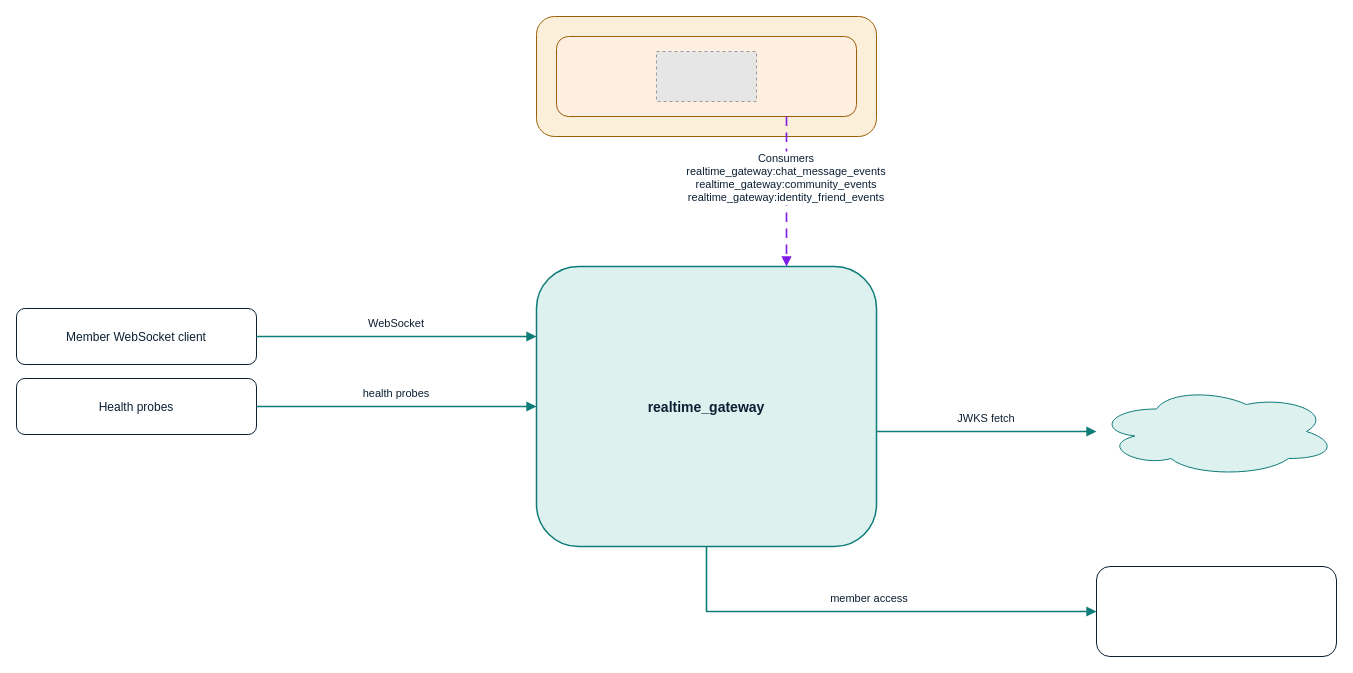
Some shapes in this 1353 by 673 pixel diagram are drawn without their labels. Grey dashed boxes stand in for pictures. Here are the shapes that lost their labels. From the top down, the centre of each, then its label:
At pixel 1216 431: "Clerk identity provider".
At pixel 1216 611: "community_service".
